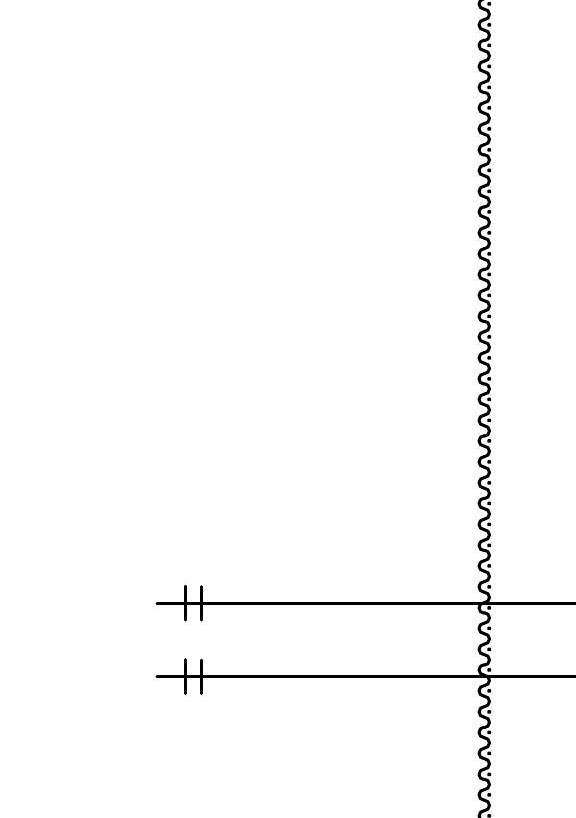115_buffer: (184, 658, 203, 695), (184, 585, 203, 622)
